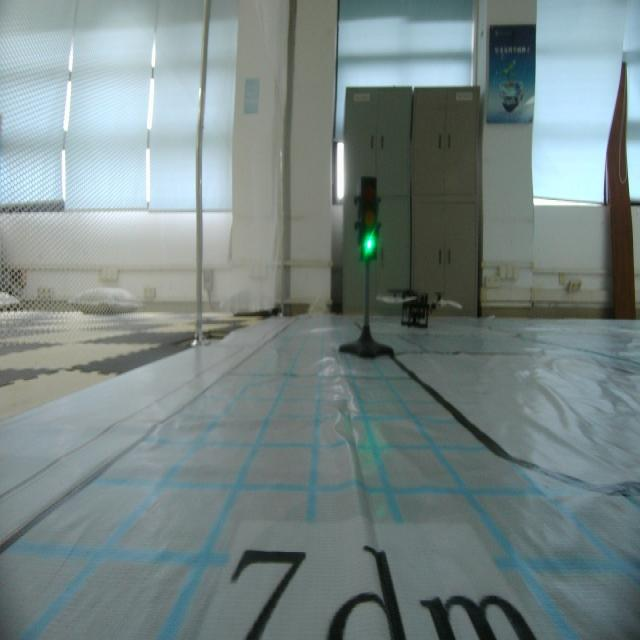green: (354, 175, 384, 271)
